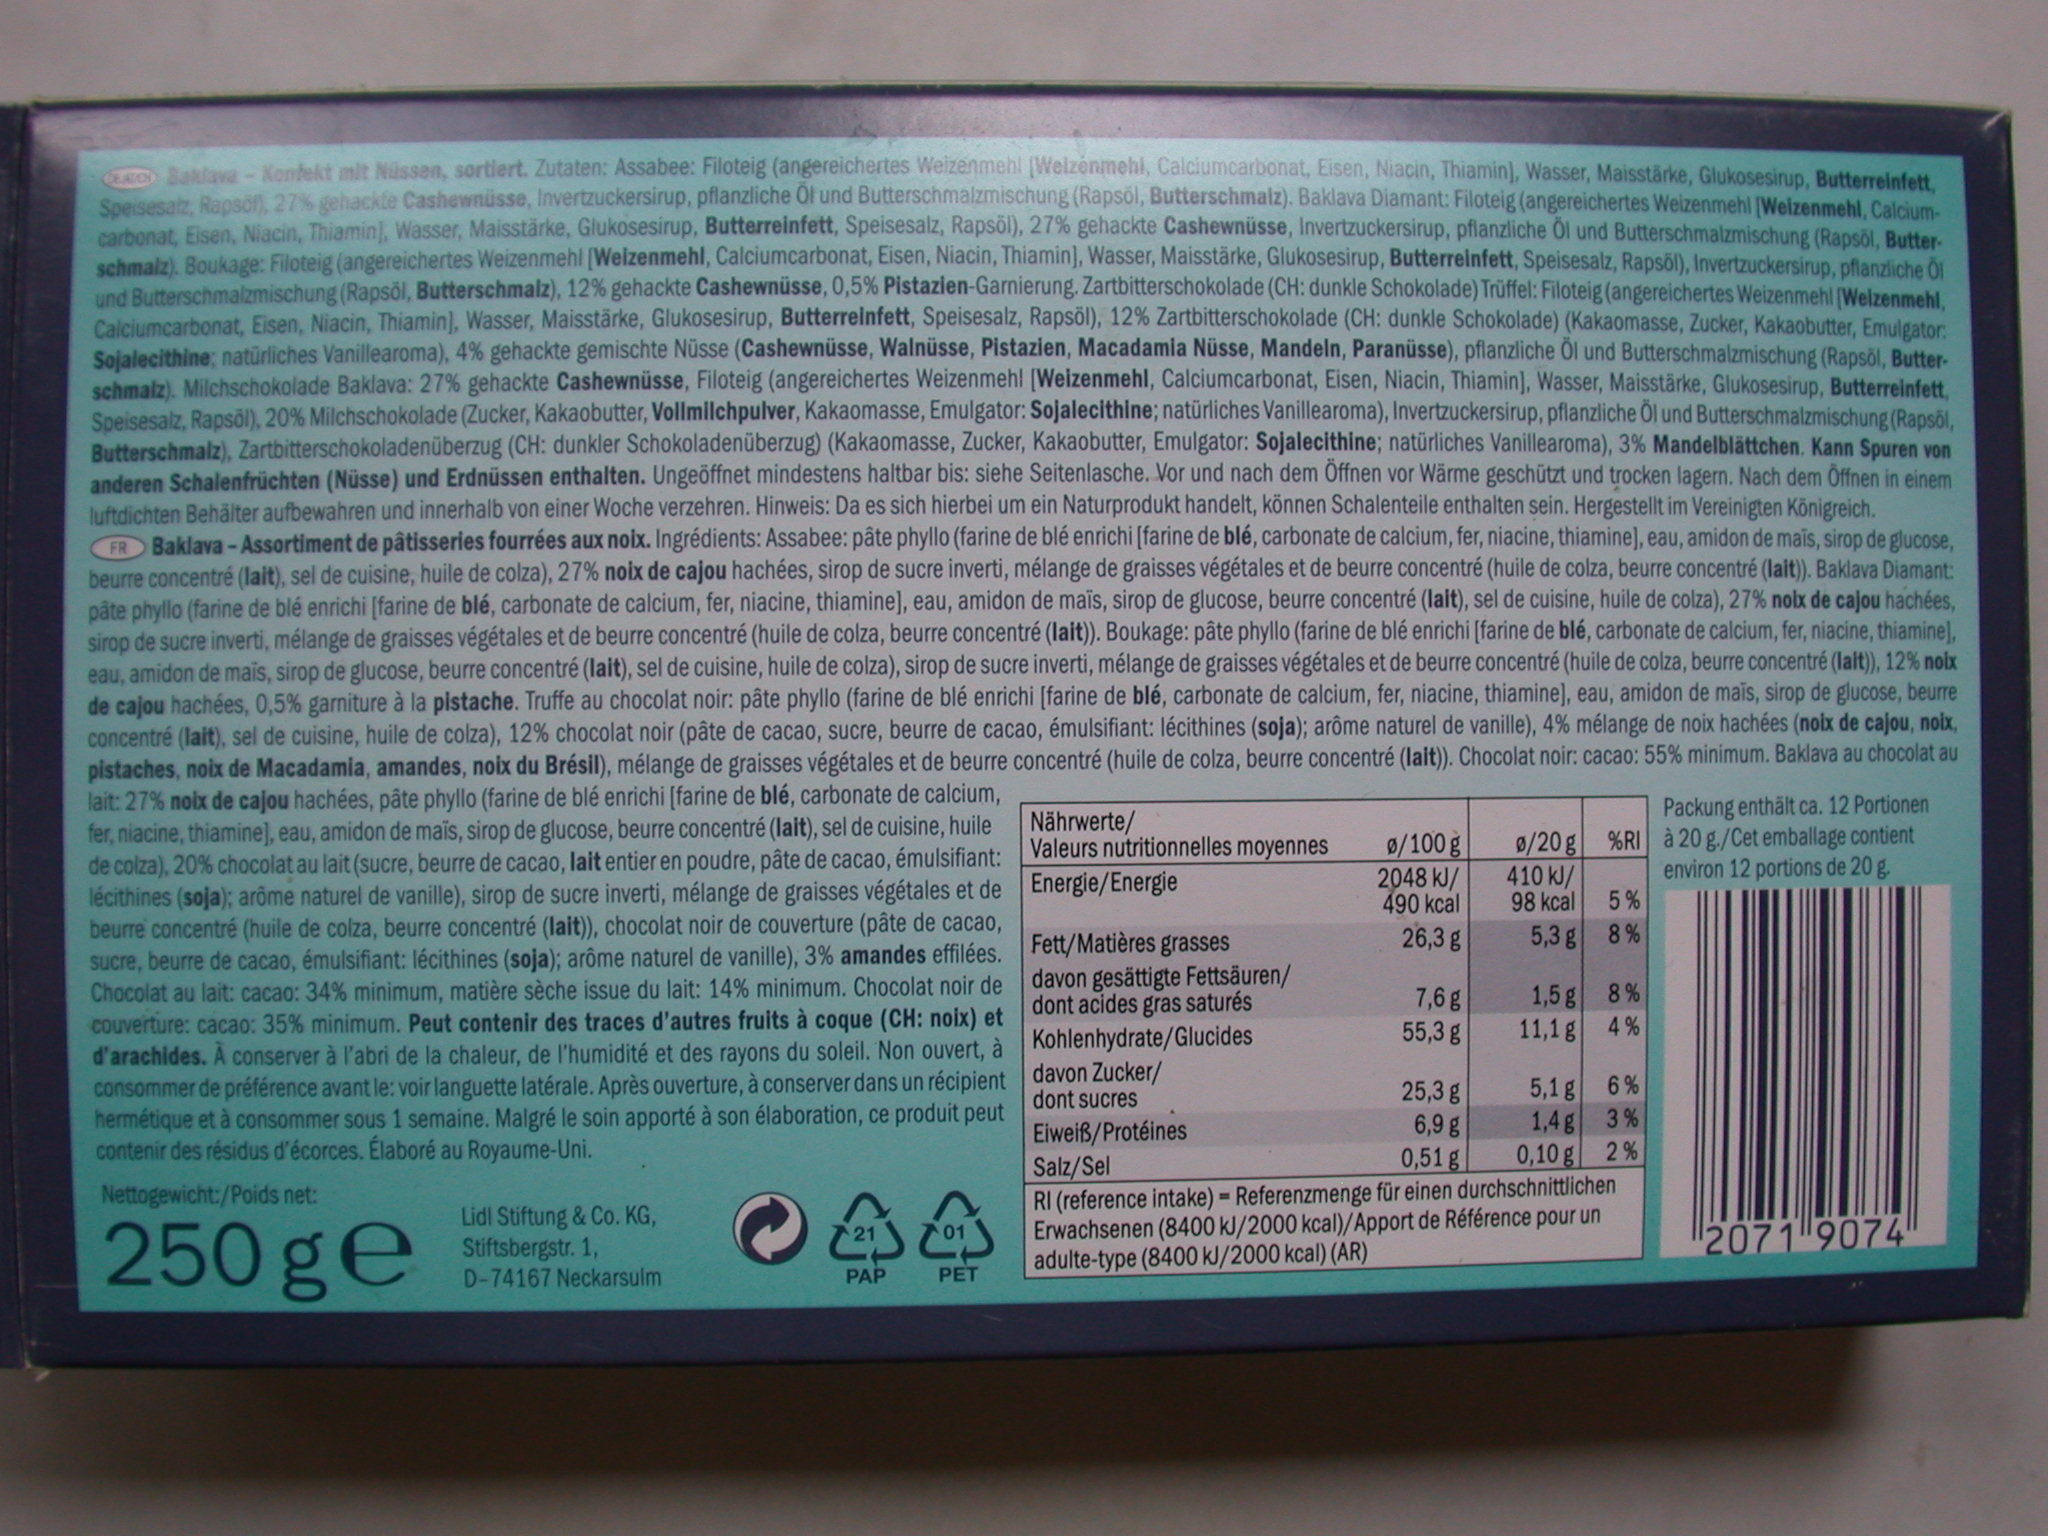column: (1027, 807, 1330, 1170), (1376, 831, 1463, 1170), (1503, 815, 1576, 1170), (1596, 816, 1643, 1163)
table: (1008, 799, 1659, 1179)
